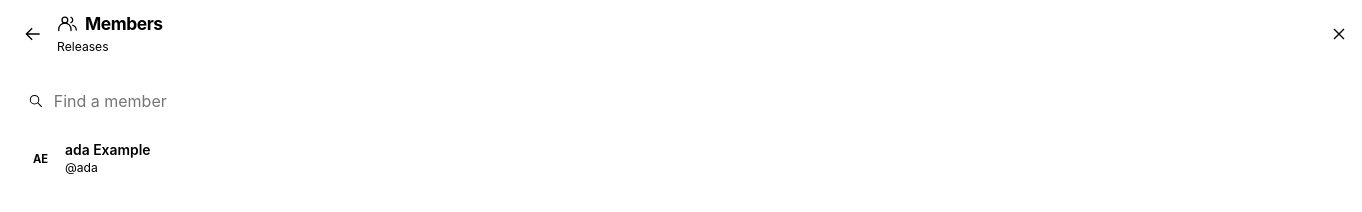
Scenario: a new search cancels in-flight reads; an old response cannot replace the current query
Type "li" into the search field at point(696, 101), box x1=54 y1=81 x2=1338 y2=121
Wait 100 ms
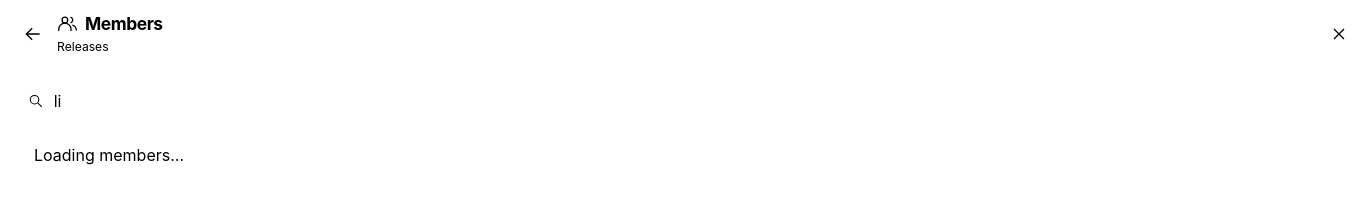
Replace the text in the search field with " lin " at point(696, 101), box x1=54 y1=81 x2=1338 y2=121
Wait 100 ms
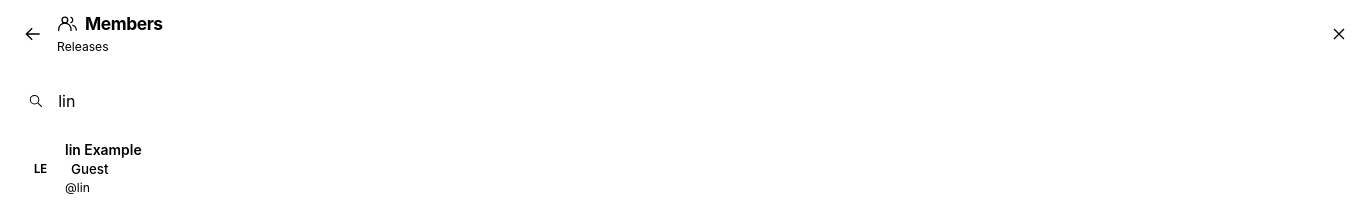
Expected: the text "@ada" is not shown
Expected: the text "@lin" is shown, x1=65 y1=180 x2=90 y2=195
Clear the search field at point(696, 101), box x1=54 y1=81 x2=1338 y2=121
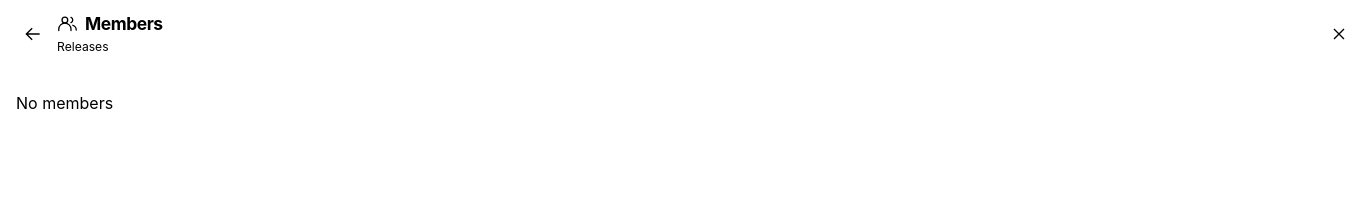
Expected: the heading "No members" is shown, x1=16 y1=93 x2=113 y2=113
